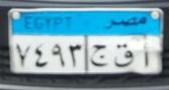3: (68, 42, 84, 68)
4: (33, 42, 49, 70)
7: (15, 41, 31, 69)
9: (51, 42, 66, 71)
alif: (139, 42, 151, 70)
jeem: (88, 40, 109, 70)
qaaf: (113, 42, 134, 69)
